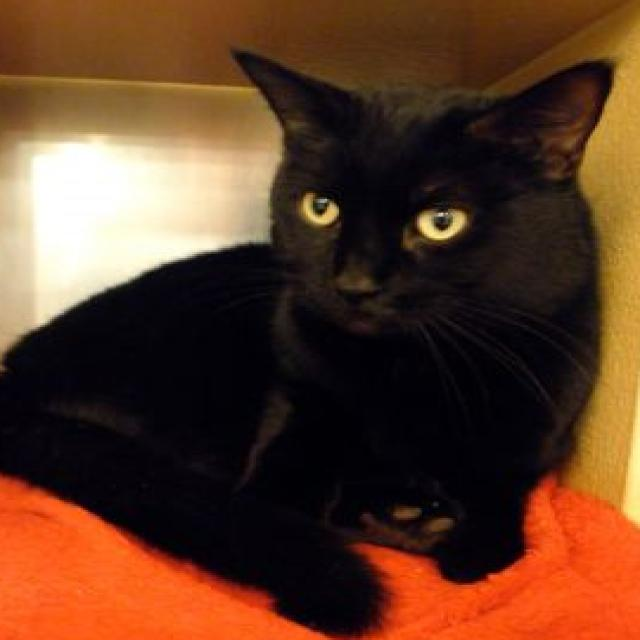Bombay: (0, 41, 621, 640)
